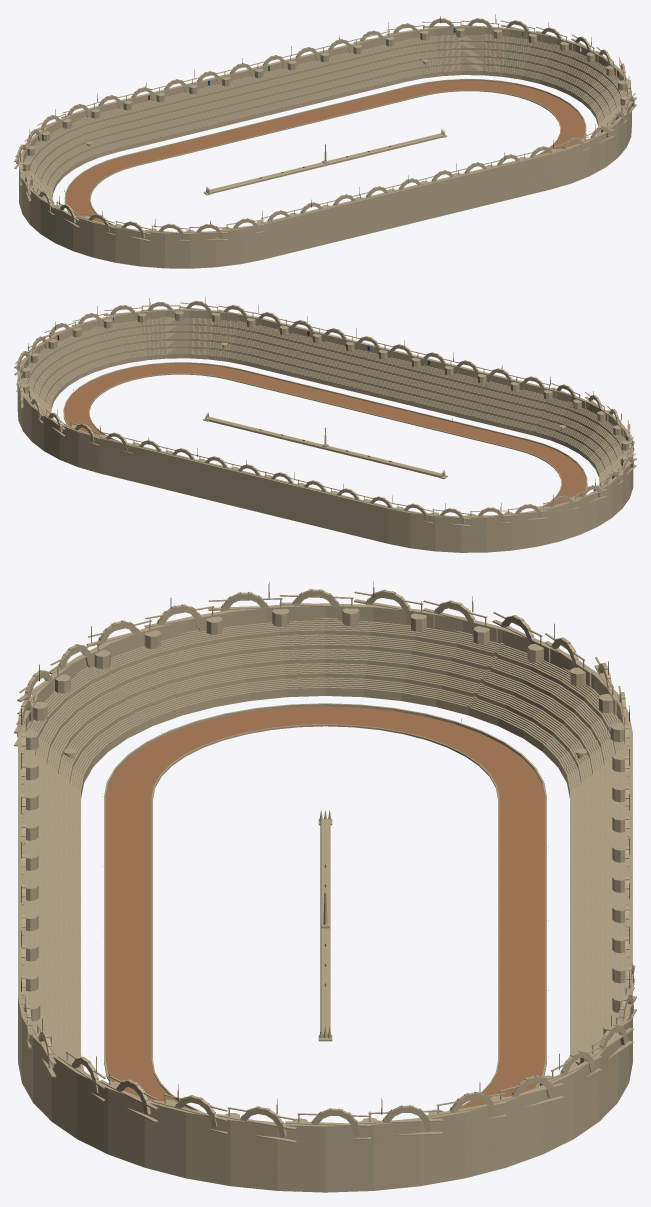
Rendered from colosseum_track.glb.
3 views of the same model, one above another, from view 1: azimuth 30°, elevation 25°; view 2: azimuth 150°, elevation 25°; view 3: azimuth 270°, elevation 25° (orthographic). The views are drawn at different scales.
Visible parts, largest first — view 1: colosseum_track; view 2: colosseum_track; view 3: colosseum_track.
Part boxes in pixels (left/top/right/bottom): colosseum_track: left=14, top=14, right=636, bottom=268; colosseum_track: left=14, top=297, right=636, bottom=552; colosseum_track: left=14, top=581, right=636, bottom=1192.
Size of the model in its own units: 765 by 61.55 by 380.
Materials: 10 (1 with a texture image).
